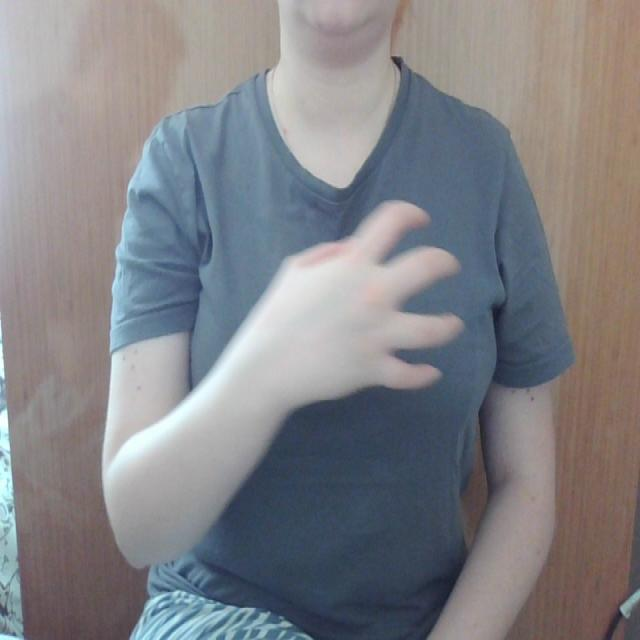Anne: (205, 186, 526, 410)
